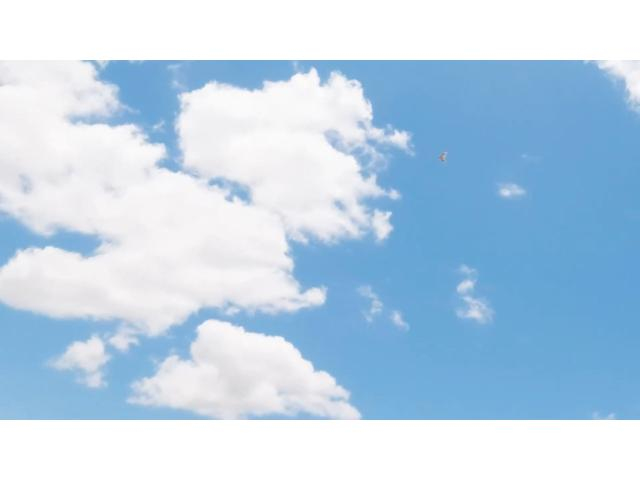Anti-Drone: (426, 142, 456, 170)
